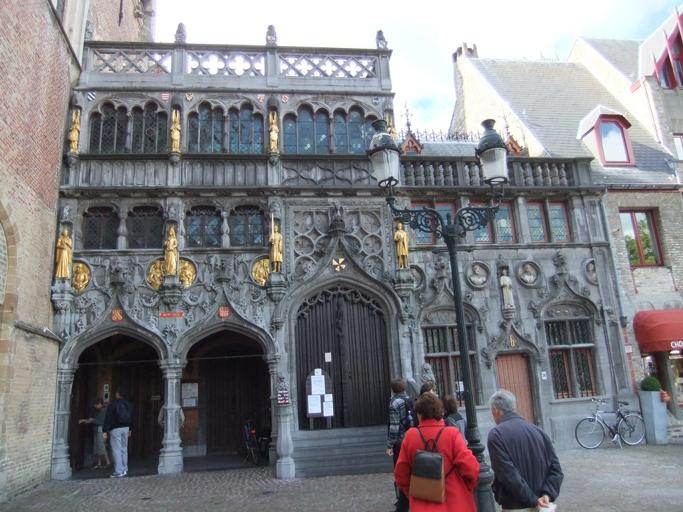non-vehicle: (572, 397, 645, 449), (237, 414, 263, 466)
